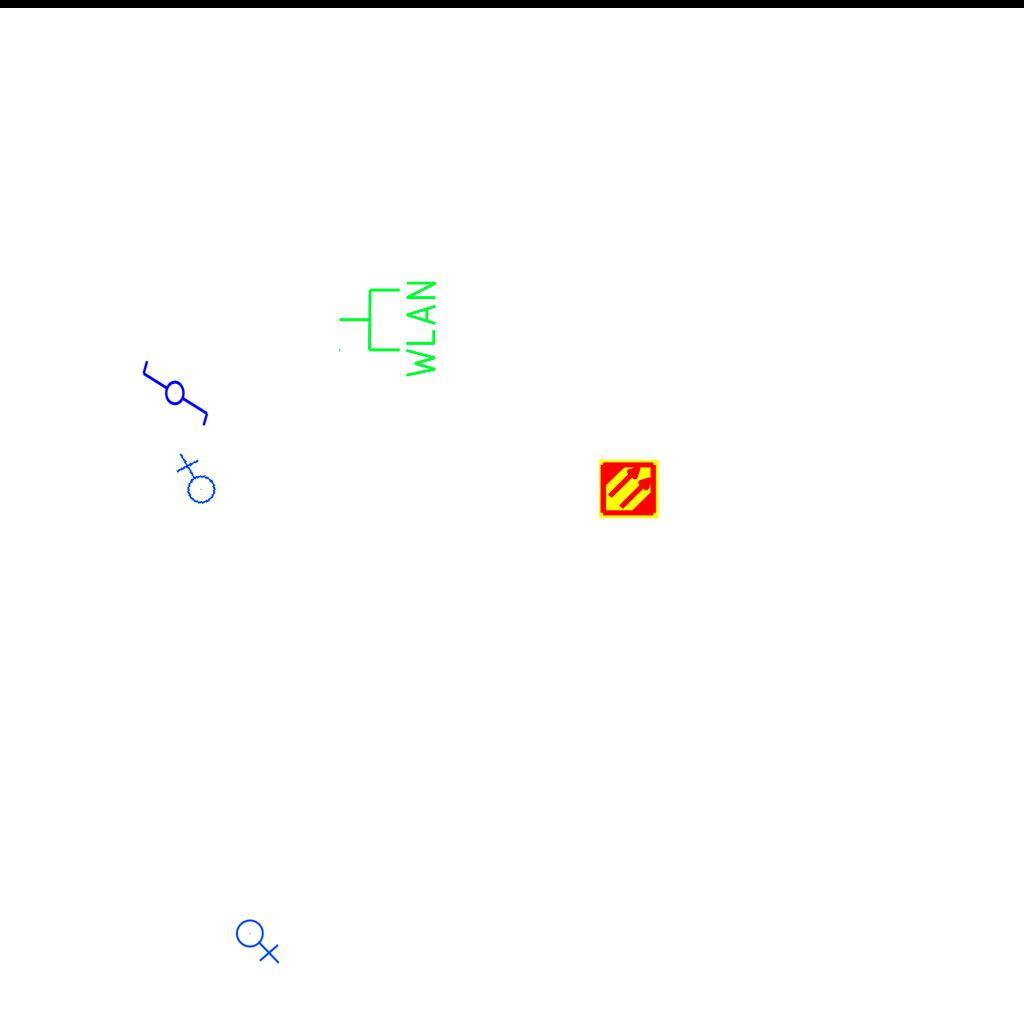ASR_Ansaugrauchmelder: (598, 458, 660, 520)
Elektroanschluss_allgemein_230V_Geraeteanschlussdose_230V: (165, 452, 224, 511), (235, 915, 282, 964)
WLAN: (336, 277, 440, 382)
Wechselschalter: (140, 350, 212, 428)
